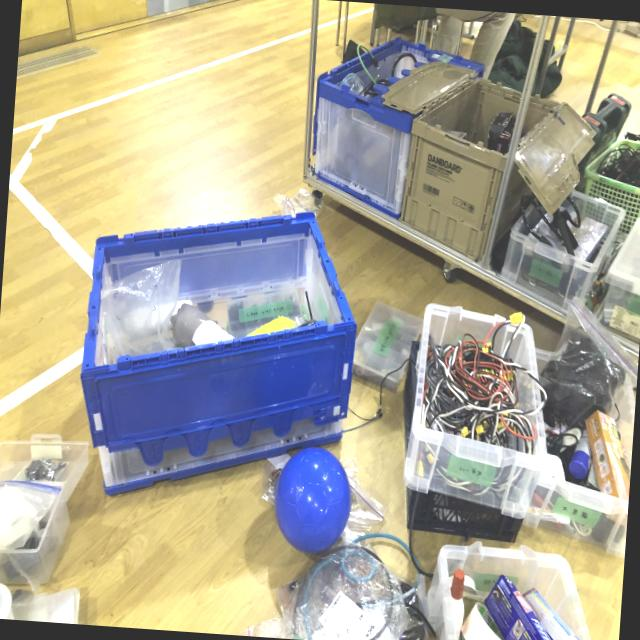blue_ball: (272, 444, 352, 560)
